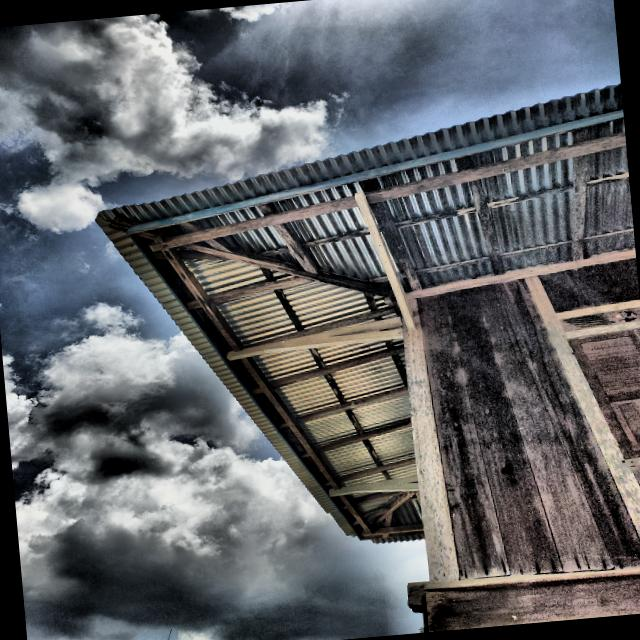roof: (93, 80, 635, 542)
wall: (414, 256, 640, 580)
window: (566, 325, 640, 459)
